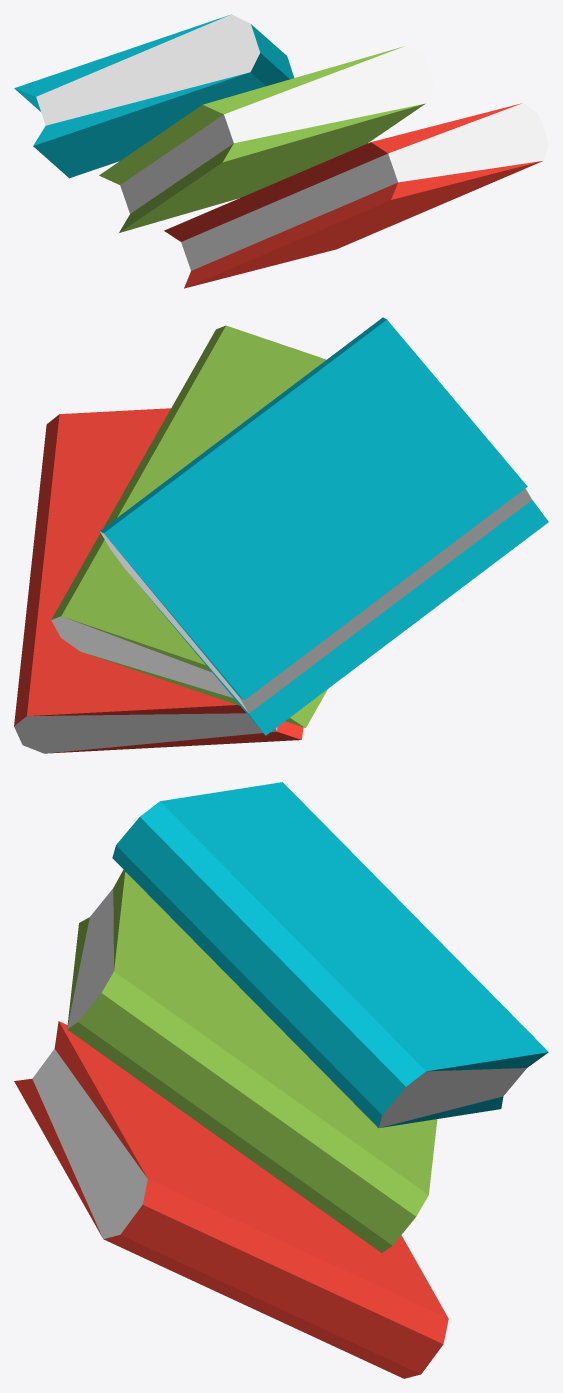
Rendered from Book.glb.
3 views of the same model, one above another, from view 1: azimuth 30°, elevation 25°; view 2: azimuth 150°, elevation 25°; view 3: azimuth 270°, elevation 25° (orthographic). The views are drawn at different scales.
Visible parts, largest first — view 1: group1024741775, group1564261562, group437051796; view 2: group437051796, group1024741775, group1564261562; view 3: group437051796, group1024741775, group1564261562.
Part boxes in pixels (x1,y1,x2,y2): group1024741775: [164, 103, 548, 288]; group1564261562: [99, 45, 434, 232]; group437051796: [14, 14, 294, 178]; group437051796: [100, 317, 548, 735]; group1024741775: [14, 408, 303, 753]; group1564261562: [51, 325, 327, 727]; group437051796: [112, 782, 548, 1128]; group1024741775: [14, 1021, 448, 1378]; group1564261562: [67, 869, 437, 1252].
Size of the model in its own units: 0.3711 by 0.2661 by 0.2852.
